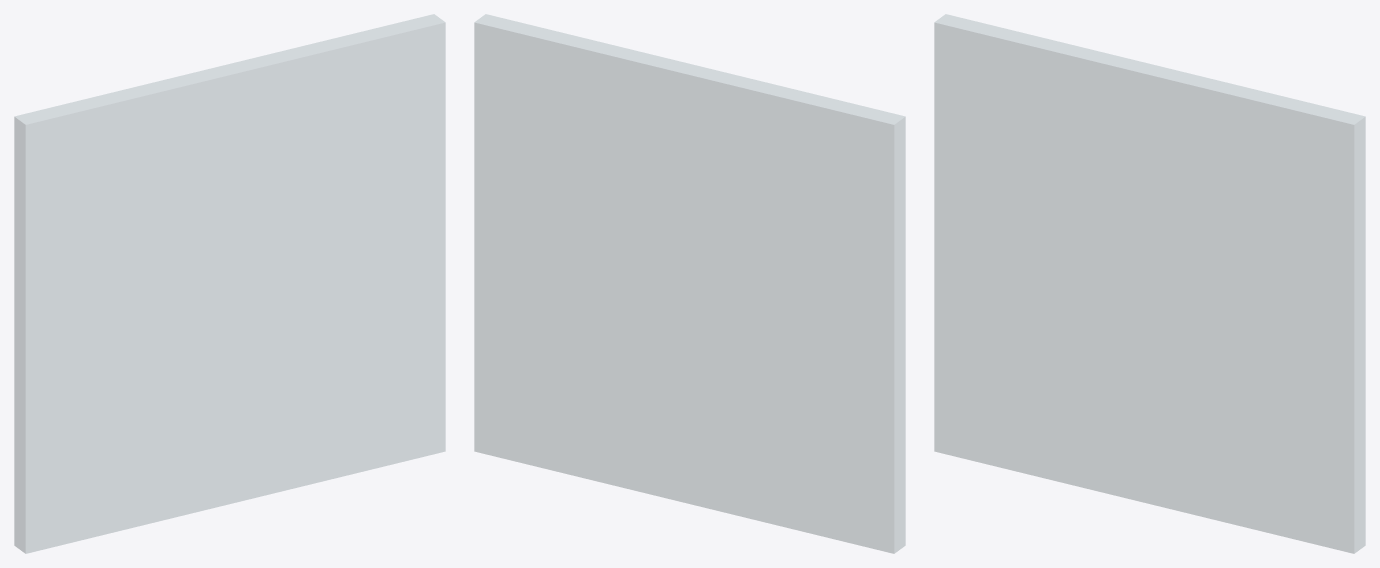
Rendered from shuttle_bus_side_window.glb.
The picture shows the model from 3 angles, left to right: view 1: azimuth 30°, elevation 25°; view 2: azimuth 150°, elevation 25°; view 3: azimuth 330°, elevation 25°; orthographic projection.
Parts seen in each view (by area): view 1: body:compound; view 2: body:compound; view 3: body:compound.
Part boxes in pixels (x1,y1,x2,y2): body:compound: (14, 14, 445, 553); body:compound: (474, 14, 905, 553); body:compound: (934, 14, 1365, 553).
Bounding box in the file's own units: 1.31 × 1.28 × 0.0625.
